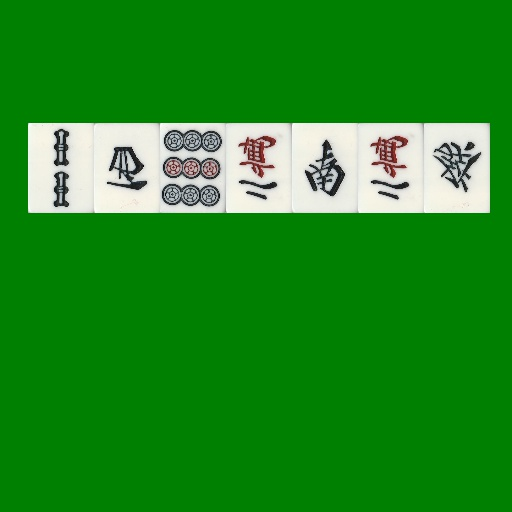2m: (226, 123, 292, 213), (358, 123, 424, 213)
2s: (28, 123, 94, 213)
9p: (160, 123, 226, 213)
hatsu: (424, 123, 490, 213)
south: (292, 123, 358, 213)
west: (94, 123, 160, 213)
